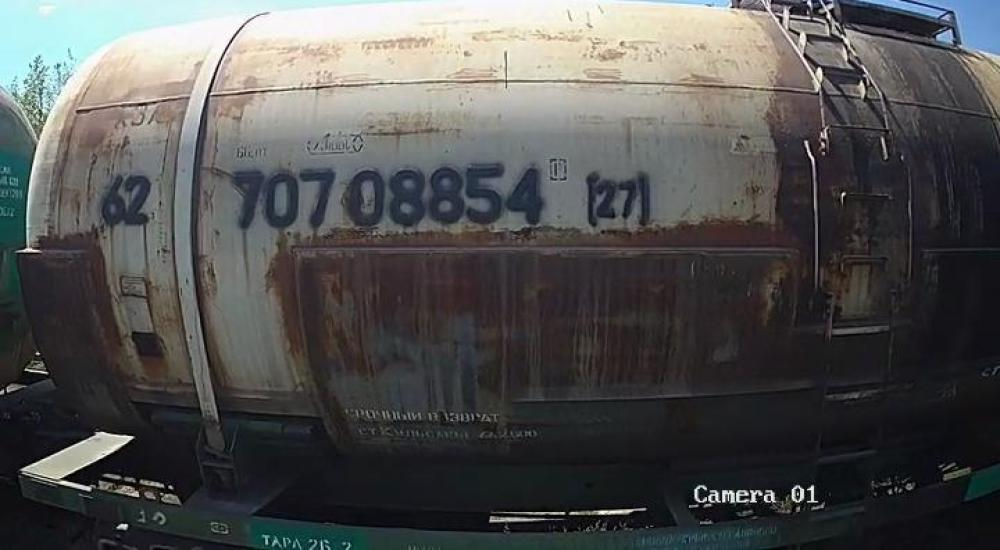Wagon-number: (228, 161, 550, 234)
